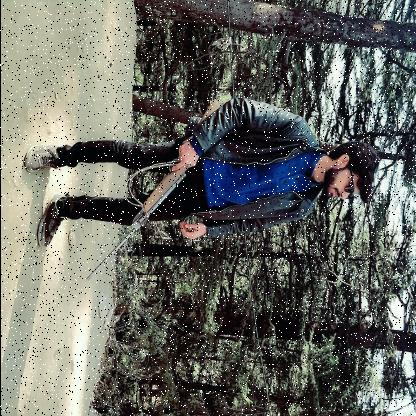rifle: (84, 95, 223, 283)
